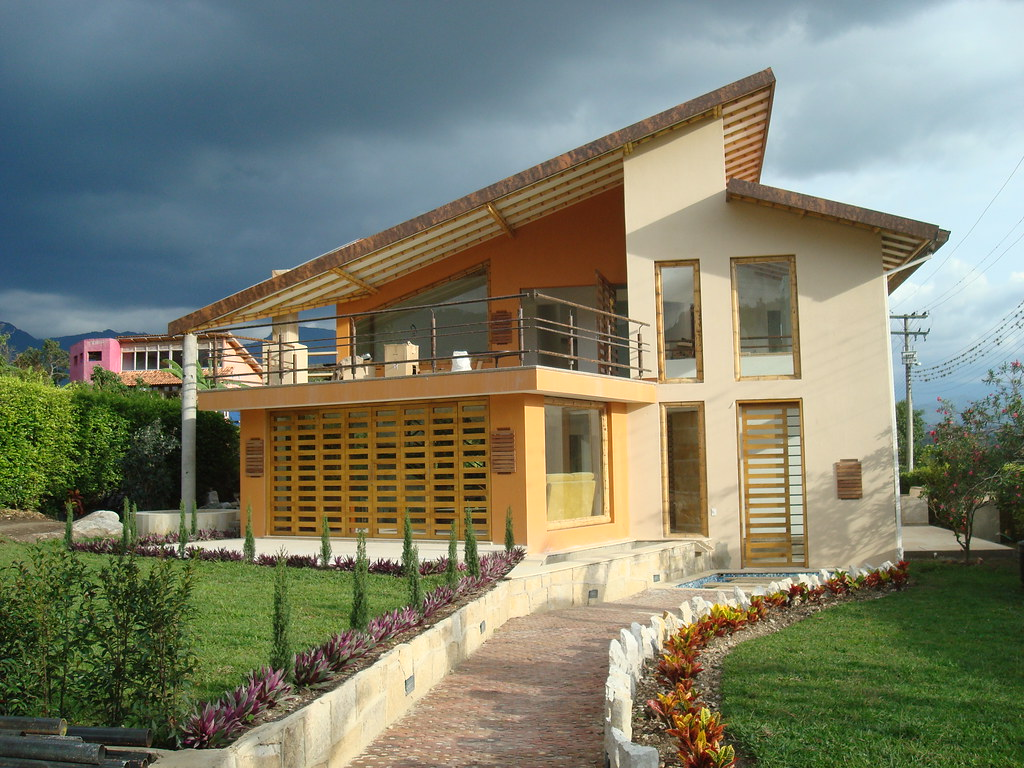House: (169, 63, 913, 562)
